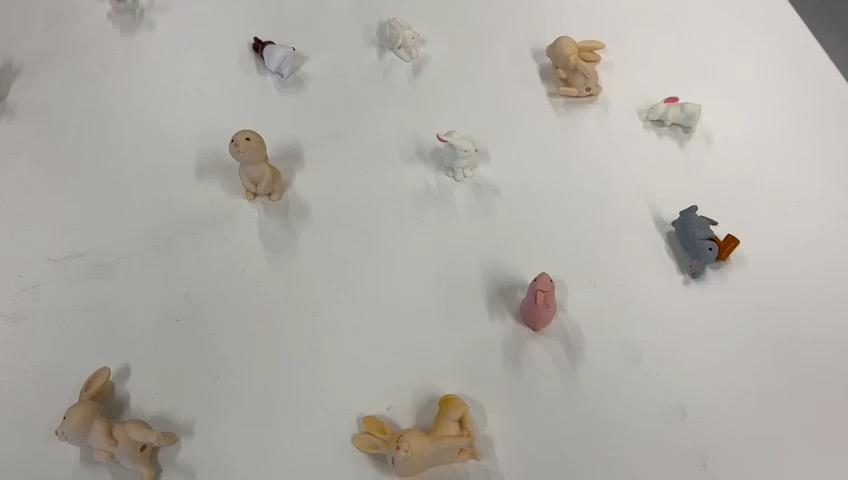pet: (53, 360, 182, 480), (348, 389, 485, 480), (670, 201, 743, 284), (221, 121, 286, 208), (540, 31, 610, 103), (247, 27, 313, 85), (375, 10, 431, 70), (430, 122, 485, 183), (638, 92, 707, 139), (516, 266, 561, 338)
